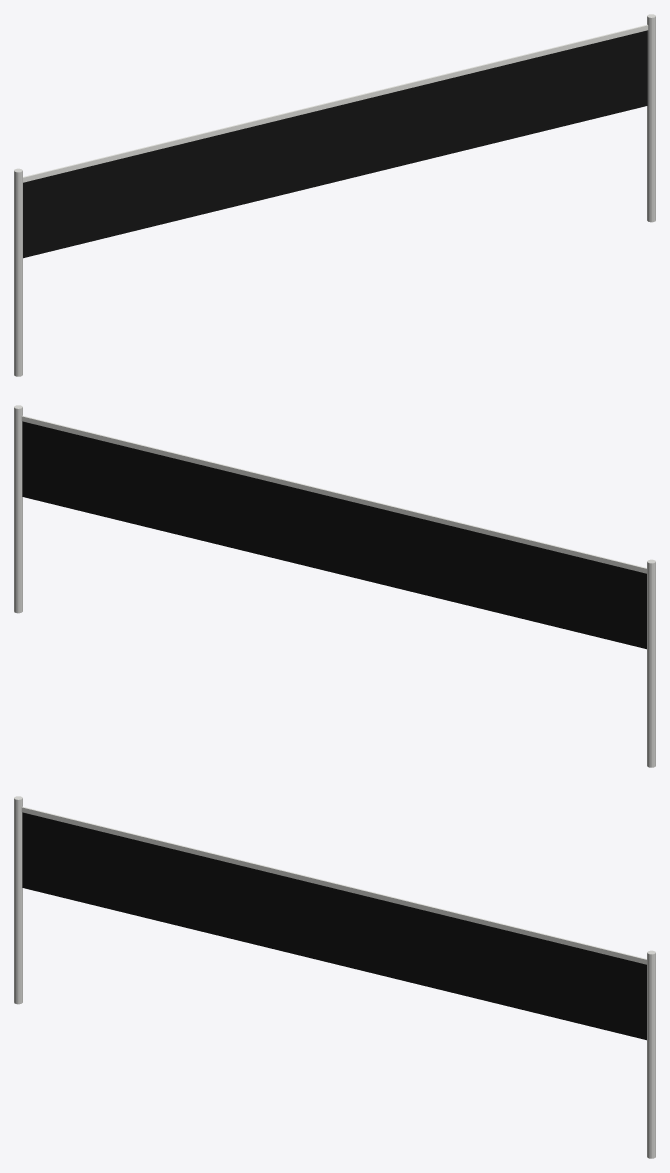
Rendered from volleyball_net.glb.
3 renders of one model, top to bottom at view 1: azimuth 30°, elevation 25°; view 2: azimuth 150°, elevation 25°; view 3: azimuth 330°, elevation 25°, orthographic.
Visible parts, largest first — view 1: net, band, pole; view 2: net, band, pole; view 3: net, band, pole.
Part boxes in pixels (<box>): net: <box>23,30,647,258</box>; band: <box>23,24,648,182</box>; pole: <box>14,14,655,376</box>; net: <box>22,421,646,649</box>; band: <box>21,415,646,573</box>; pole: <box>14,405,655,767</box>; net: <box>22,812,646,1040</box>; band: <box>21,806,646,964</box>; pole: <box>14,796,655,1158</box>.
Size of the model in its own units: 8.3 by 2.53 by 0.1003.
Materials: 3 (1 with a texture image).
